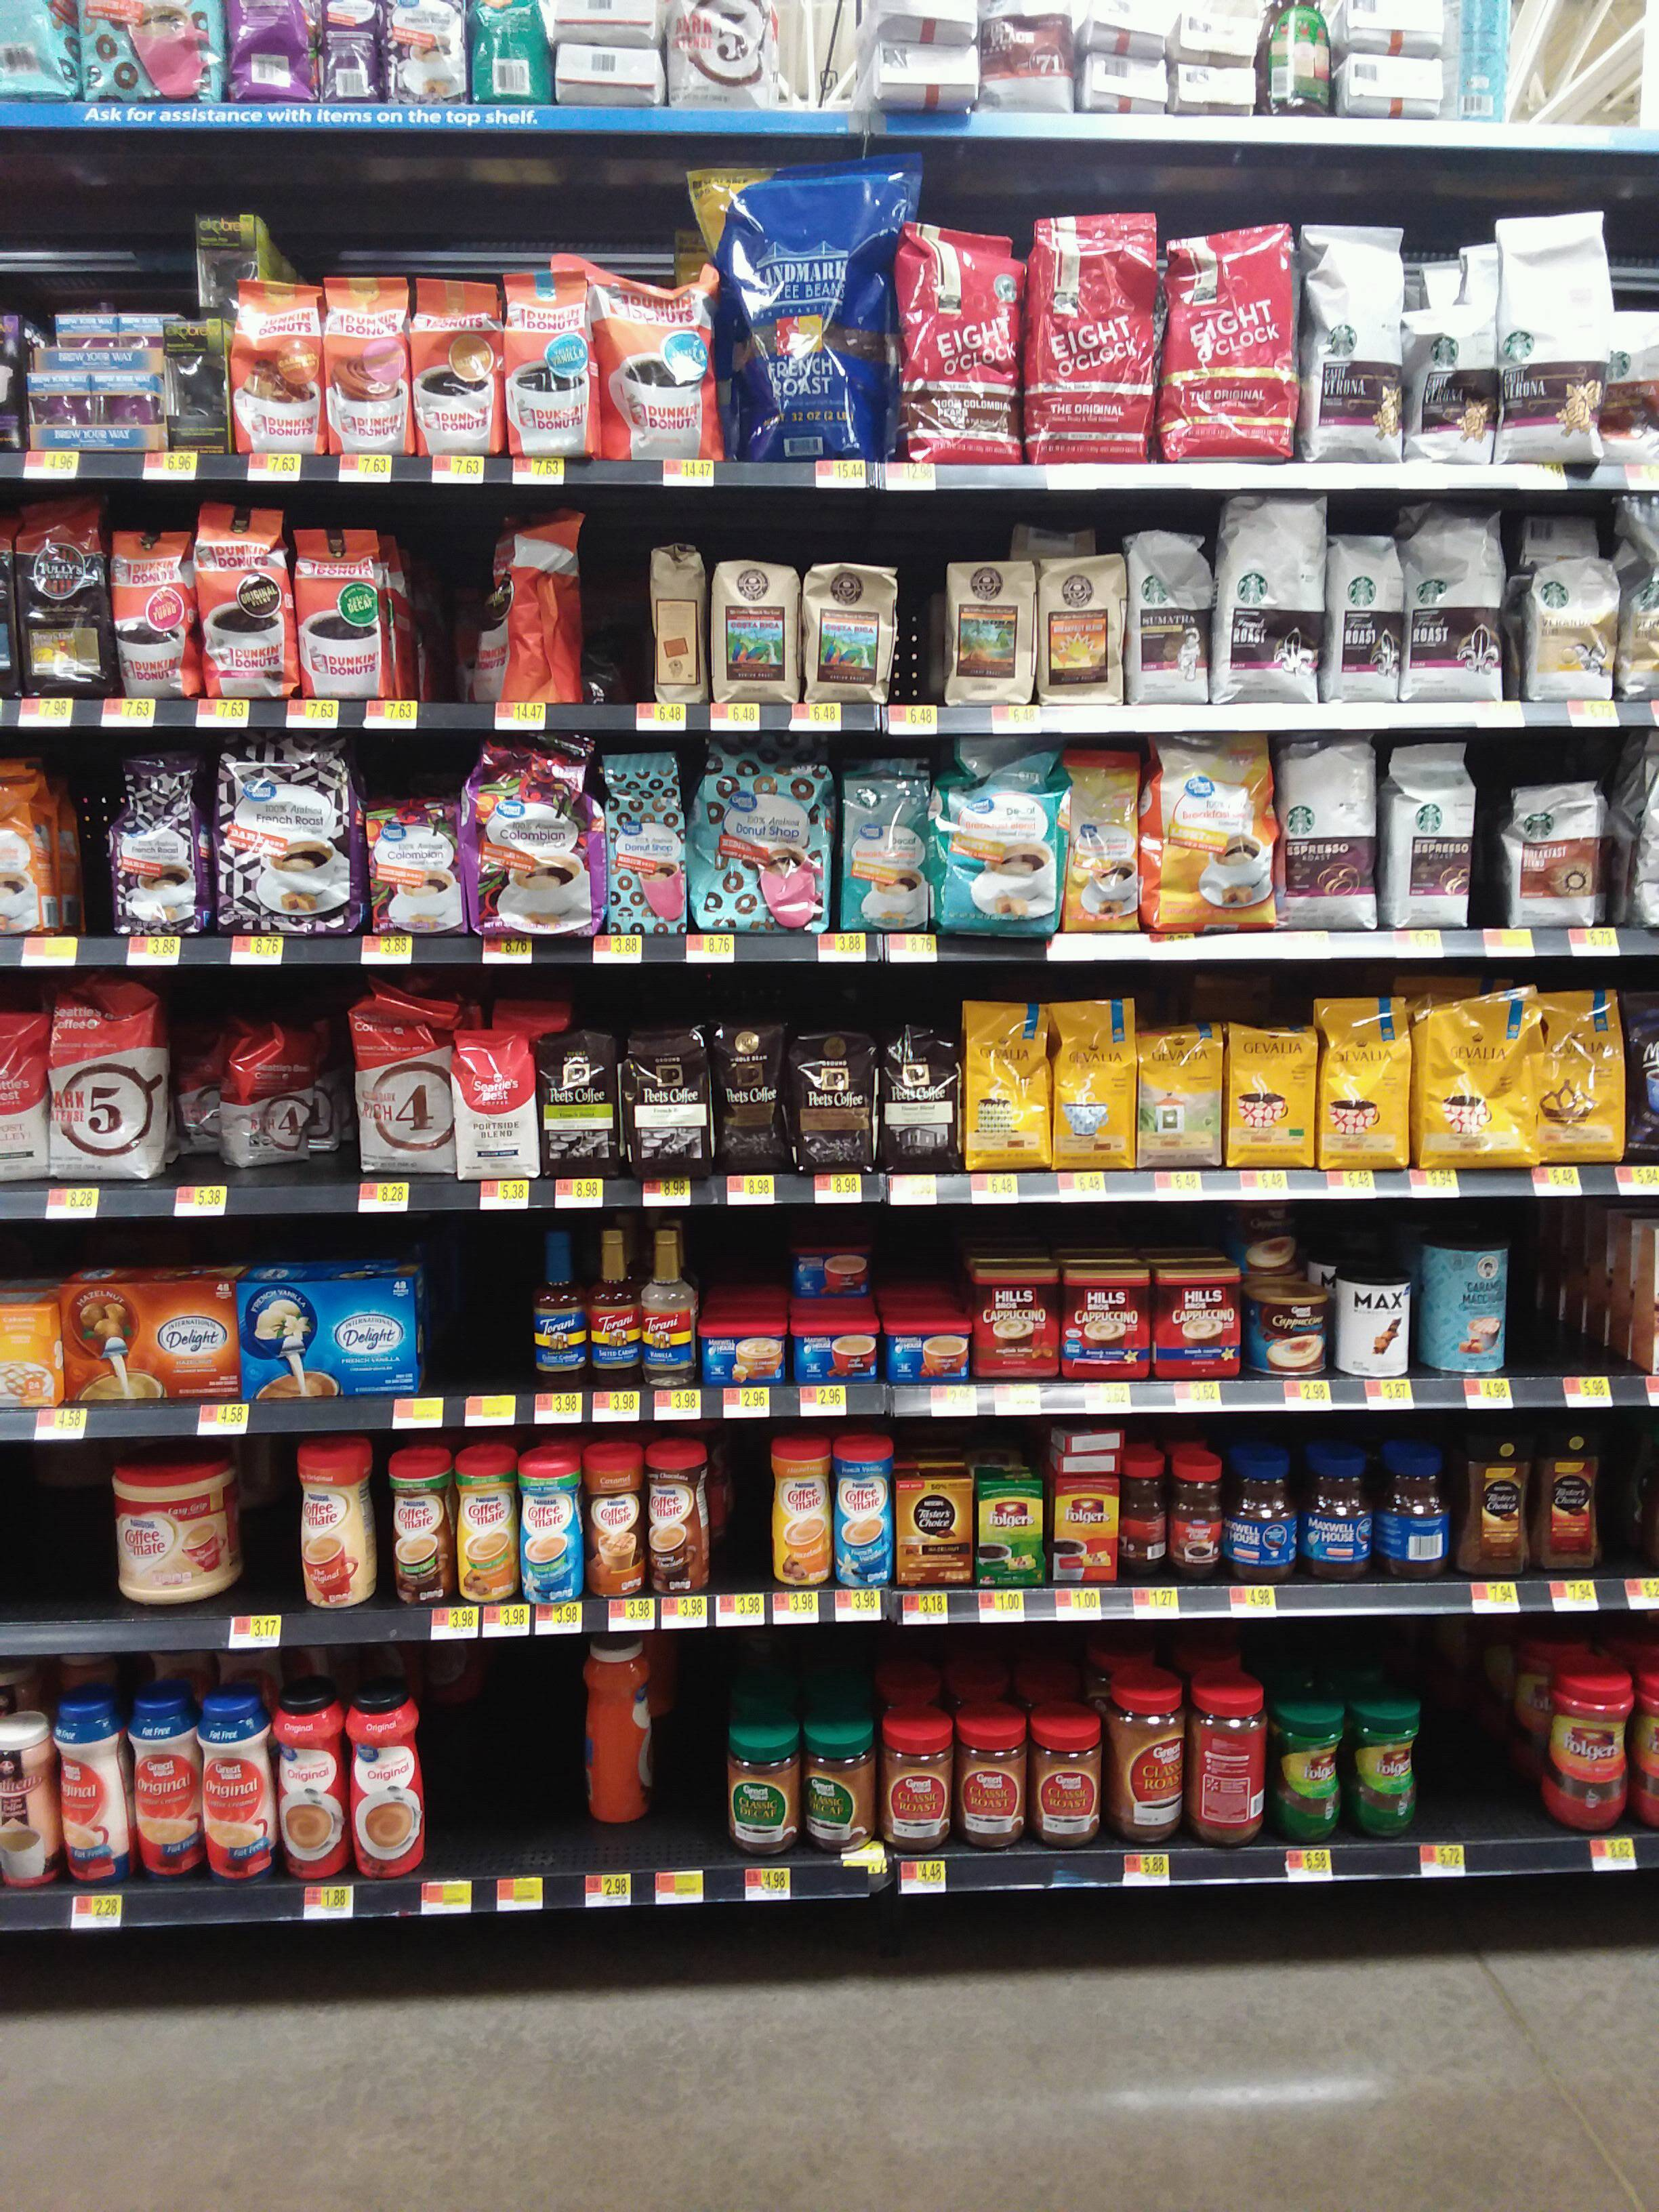Misplacement: (568, 1632, 657, 1879)
Out-of-stock: (444, 1212, 533, 1397)
